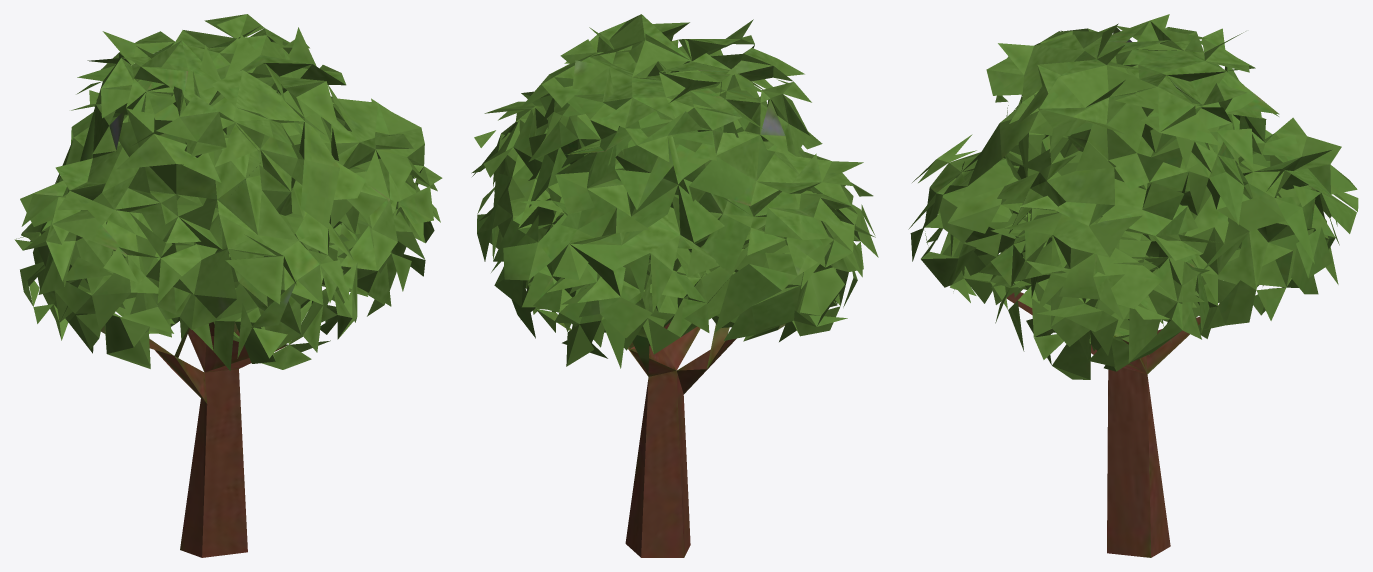
The model's file is tree.glb.
3 views of the same model, side by side, from view 1: azimuth 30°, elevation 25°; view 2: azimuth 150°, elevation 25°; view 3: azimuth 270°, elevation 25° (orthographic).
Visible parts, largest first — view 1: Mesh_0; view 2: Mesh_0; view 3: Mesh_0.
Boxes of the visible parts, left/top/right/bottom form: Mesh_0: left=14, top=14, right=442, bottom=557; Mesh_0: left=471, top=14, right=878, bottom=557; Mesh_0: left=908, top=14, right=1358, bottom=557.
Bounding box in the file's own units: 1.52 × 1.9 × 1.51.
Materials: 1 (1 with a texture image).
